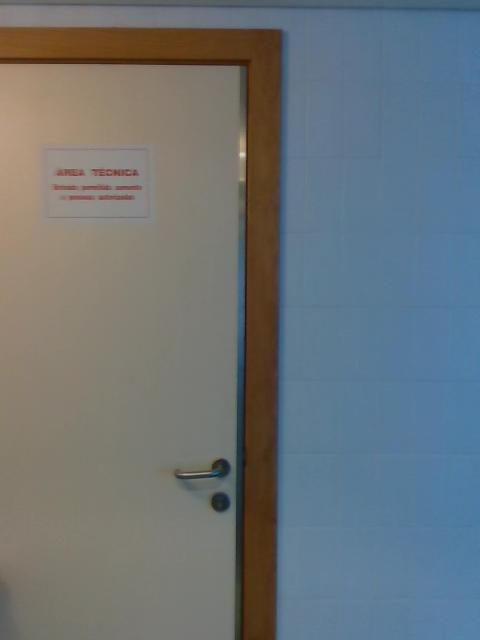door: (1, 60, 245, 634)
